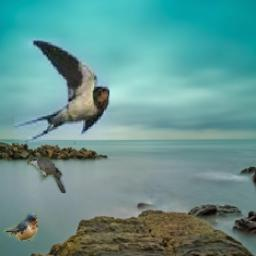Cuckoo: (28, 156, 67, 193)
Swallow: (15, 38, 110, 142), (3, 213, 39, 242)
